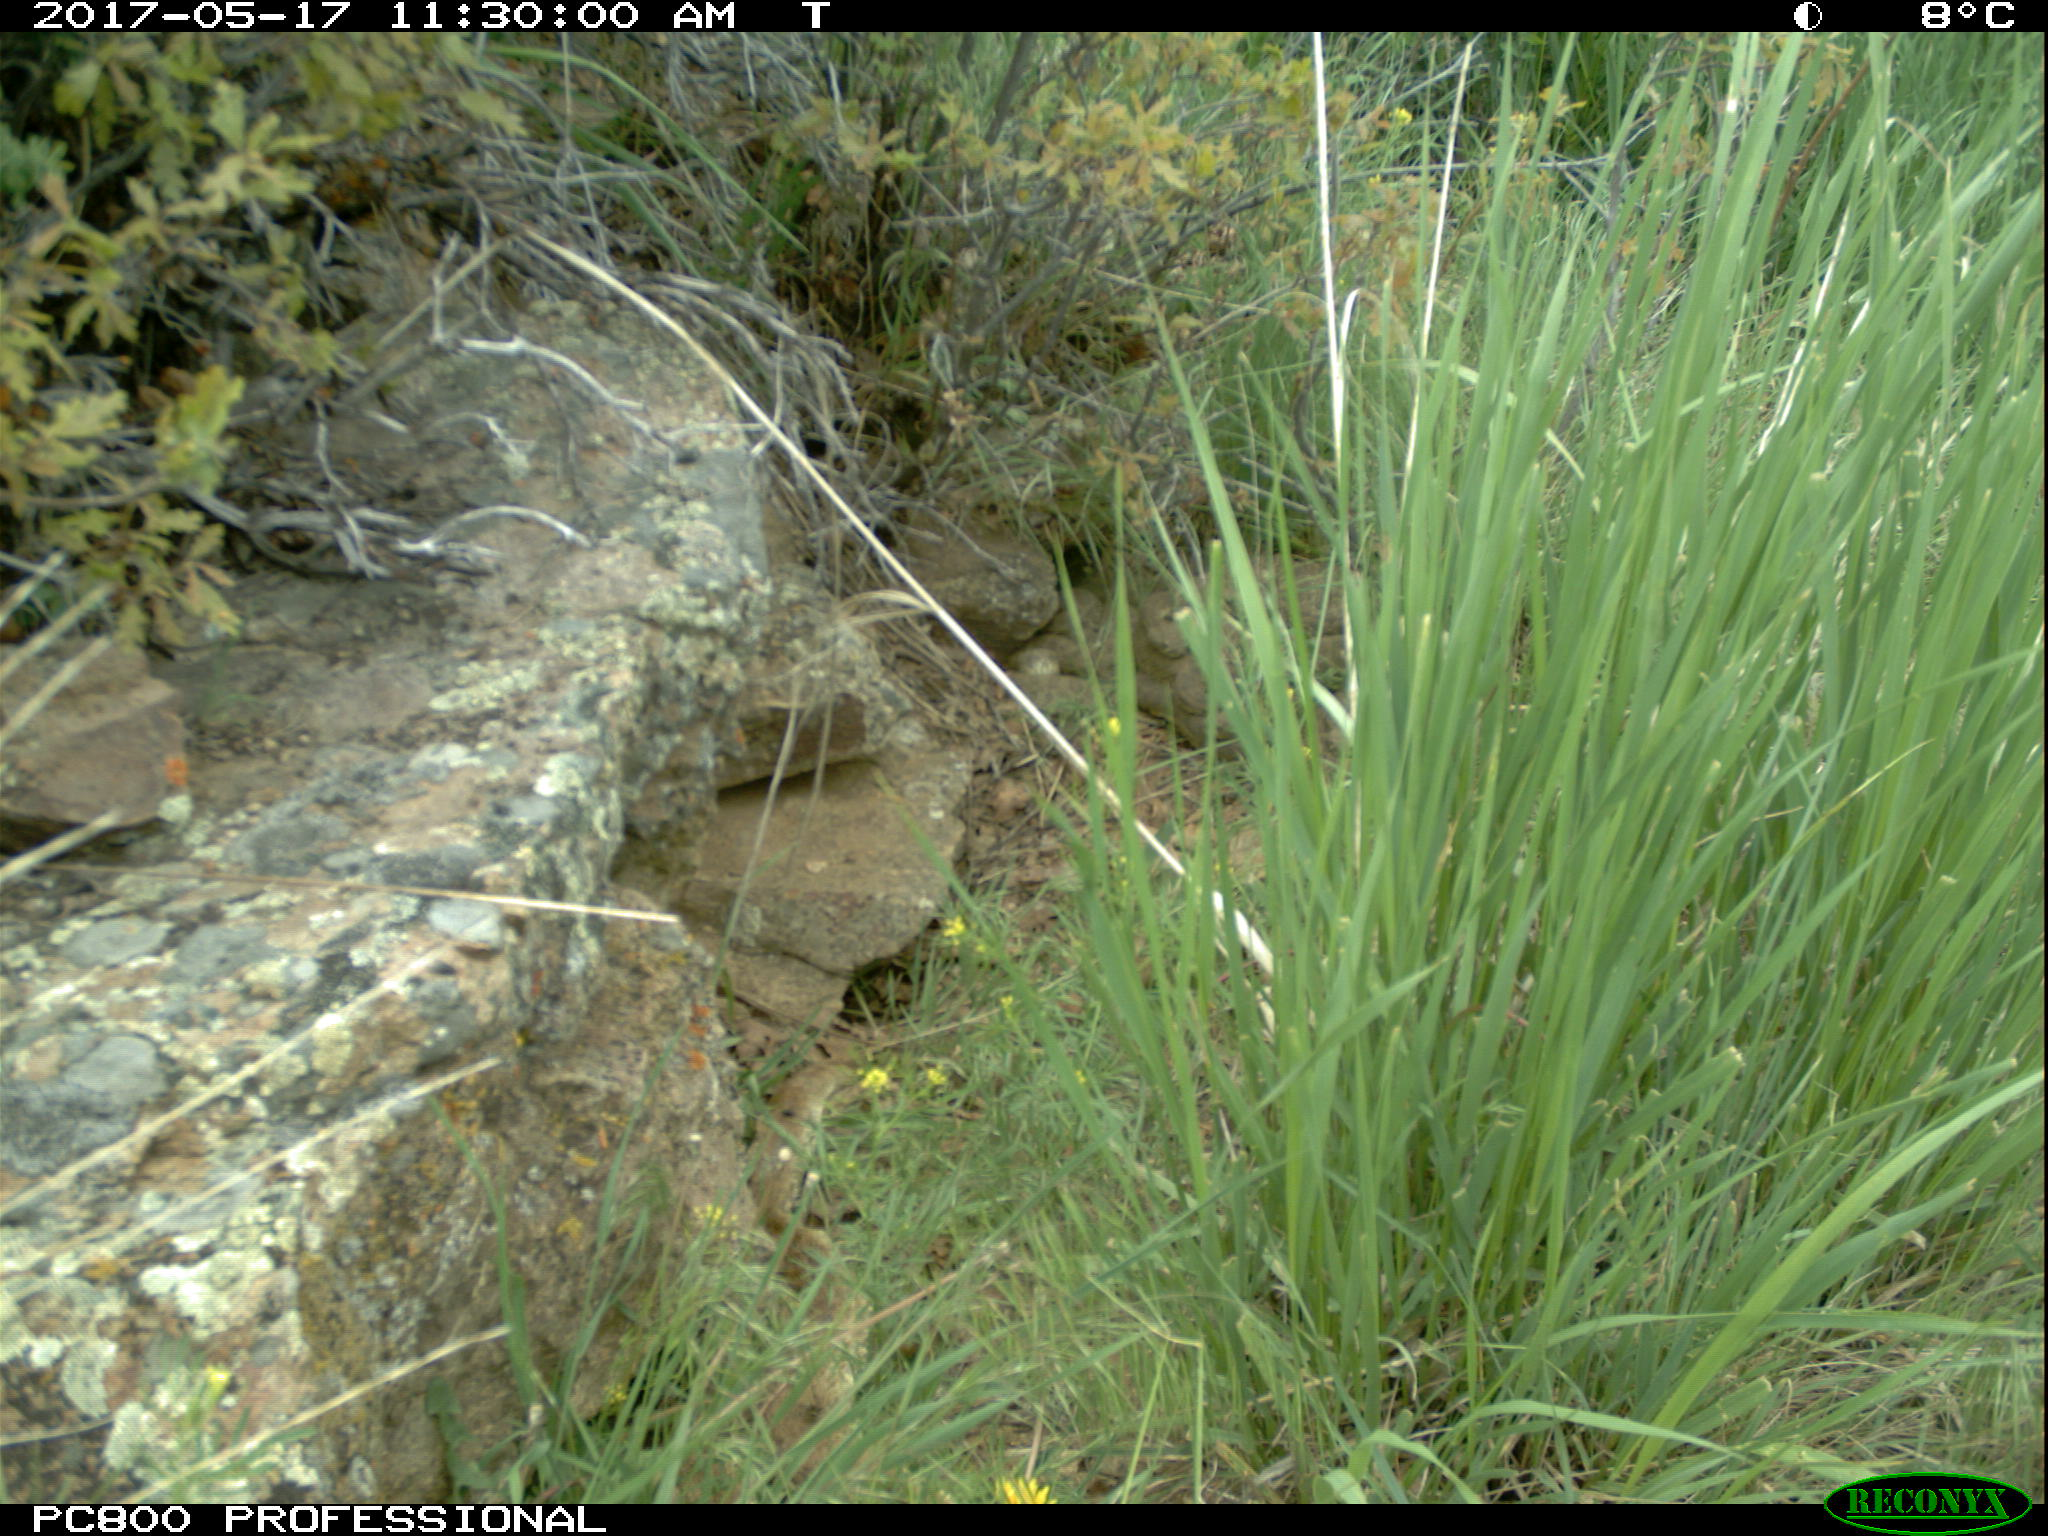snake: (753, 1062, 866, 1407), (1013, 584, 1238, 753), (1147, 549, 1355, 715)
